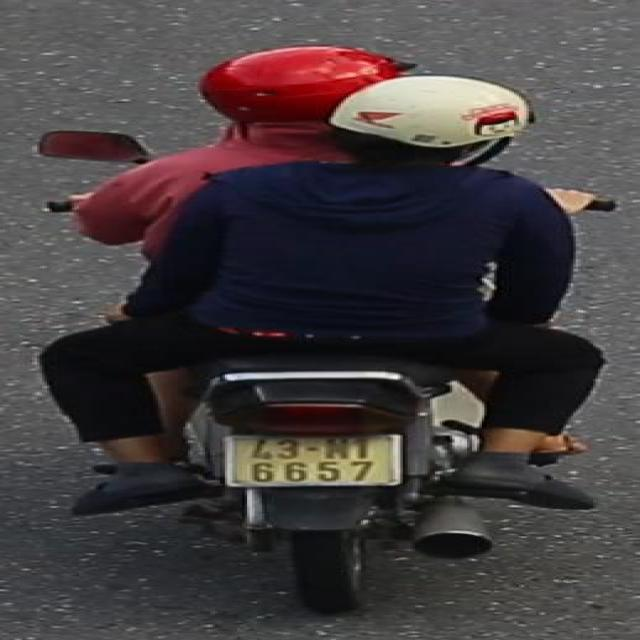LP: (214, 430, 409, 490)
helmet: (315, 69, 552, 184), (189, 42, 434, 134)
